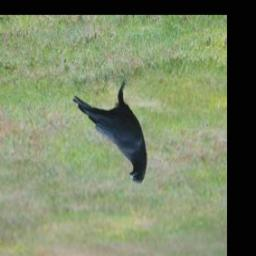Crow: (72, 79, 147, 187)
